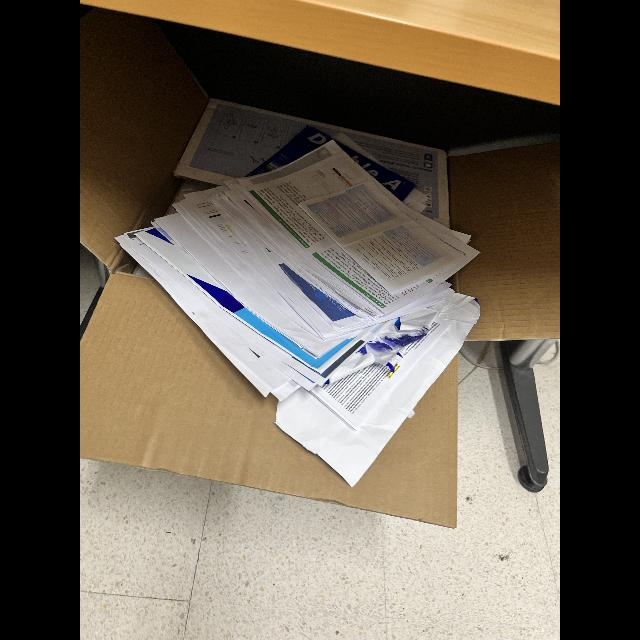reuseable_paper: (117, 131, 496, 489)
